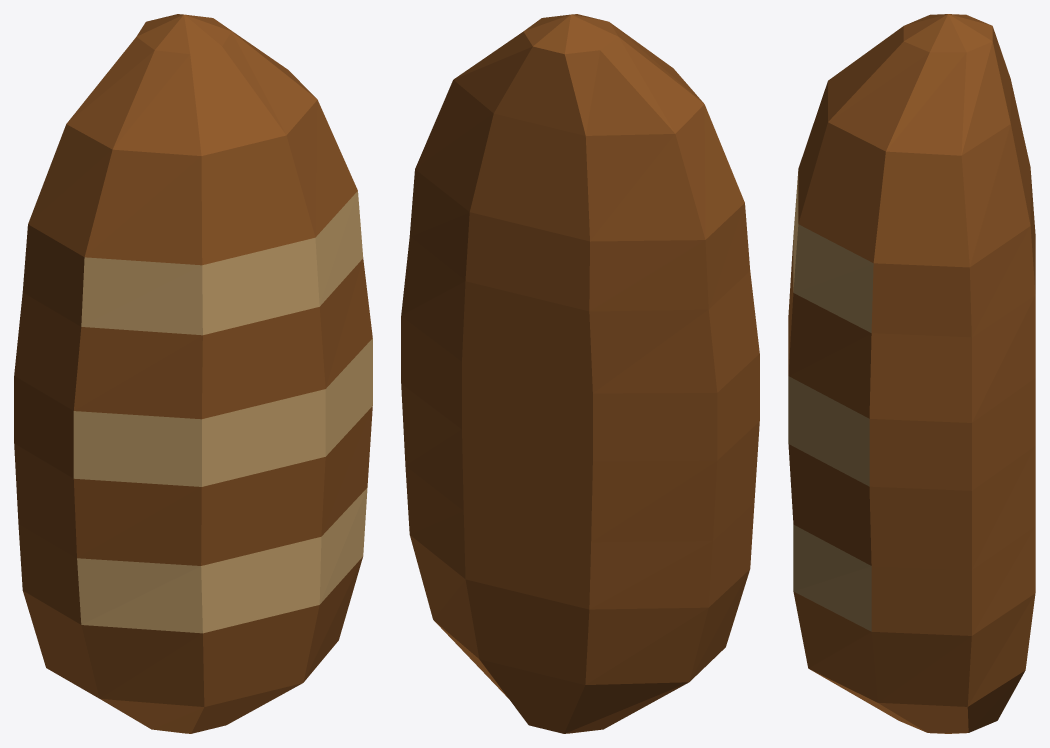
The model's file is bread.gltf.
3 views of the same model, side by side, from view 1: azimuth 30°, elevation 25°; view 2: azimuth 150°, elevation 25°; view 3: azimuth 270°, elevation 25° (orthographic).
Parts seen in each view (by area): view 1: bread; view 2: bread; view 3: bread.
Boxes of the visible parts, x1,y1,x2,y2 form: bread: [14, 14, 372, 733]; bread: [401, 14, 759, 733]; bread: [788, 14, 1035, 733].
Bounding box in the file's own units: 0.1026 × 0.2228 × 0.0693.
